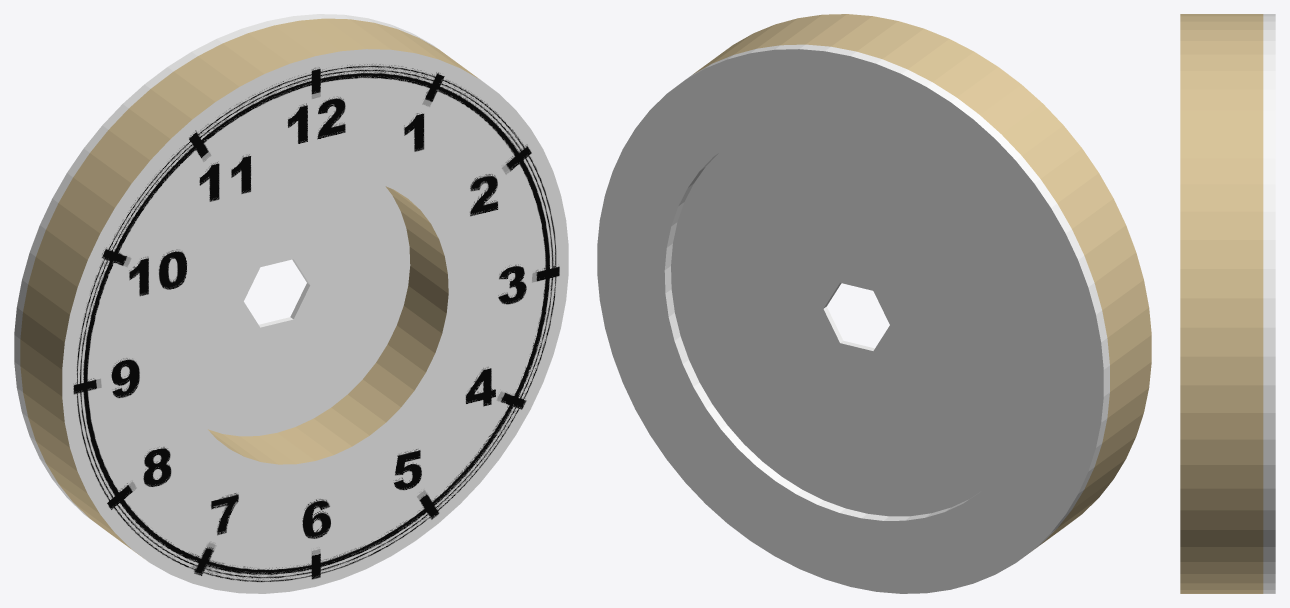
File: turntable_rotating_surface_with_texture.dae
The picture shows the model from 3 angles, left to right: view 1: azimuth 30°, elevation 25°; view 2: azimuth 150°, elevation 25°; view 3: azimuth 270°, elevation 25°; orthographic projection.
Parts seen in each view (by area): view 1: SketchUp (×5); view 2: SketchUp (×5); view 3: SketchUp (×2).
Boxes of the visible parts, bbox=[...] form: SketchUp (×5): bbox=[14, 14, 568, 593]; SketchUp (×5): bbox=[597, 14, 1151, 593]; SketchUp (×2): bbox=[1180, 14, 1275, 593].
Bounding box in the file's own units: 5883 × 966 × 5891.
4 materials, 3 textured.
